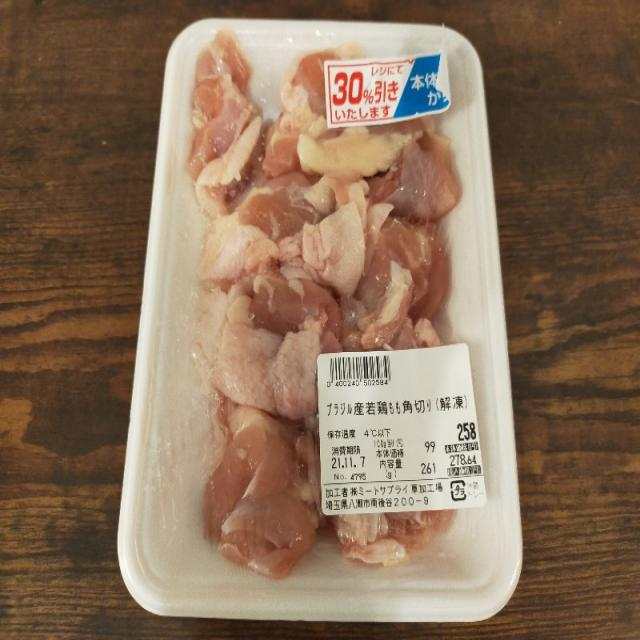chicken: (116, 18, 524, 626)
